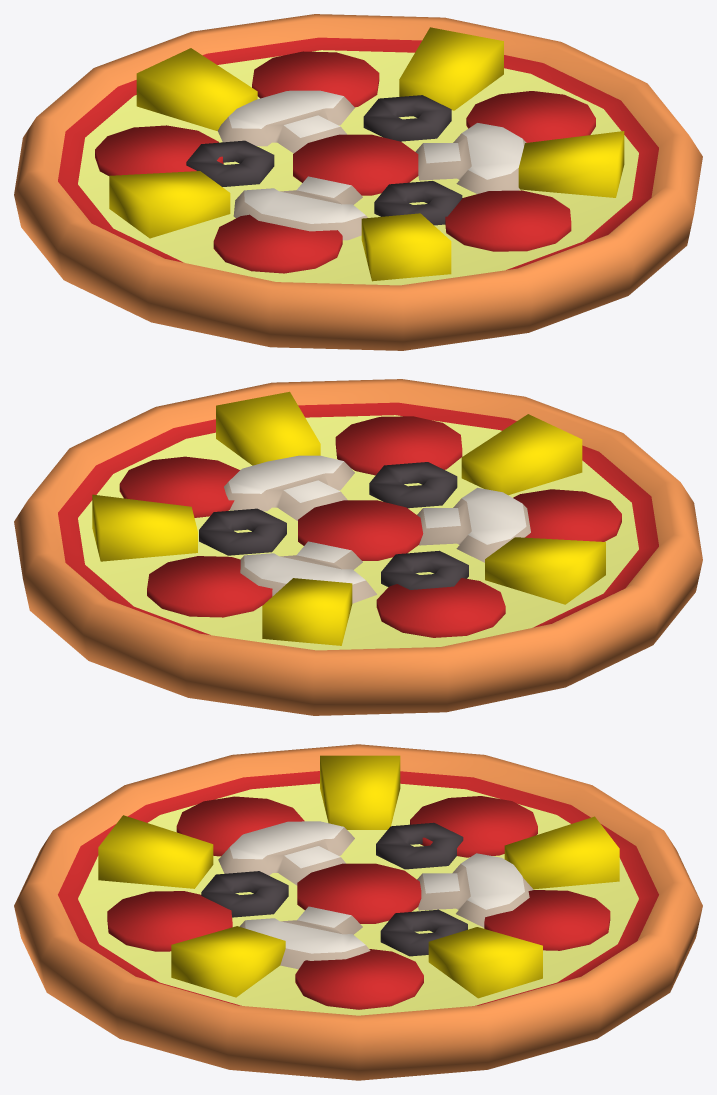
Rendered from Pizza2_geo.fbx.
3 renders of one model, top to bottom at view 1: azimuth 30°, elevation 25°; view 2: azimuth 150°, elevation 25°; view 3: azimuth 270°, elevation 25°, orthographic.
Parts seen in each view (by area): view 1: Pizza2_geo; view 2: Pizza2_geo; view 3: Pizza2_geo.
Part boxes in pixels (box(x1,y1,x2,y2)): Pizza2_geo: box(14, 14, 702, 350); Pizza2_geo: box(14, 379, 702, 715); Pizza2_geo: box(14, 744, 702, 1080).
Size of the model in its own units: 0.8307 by 0.8307 by 0.0959.
